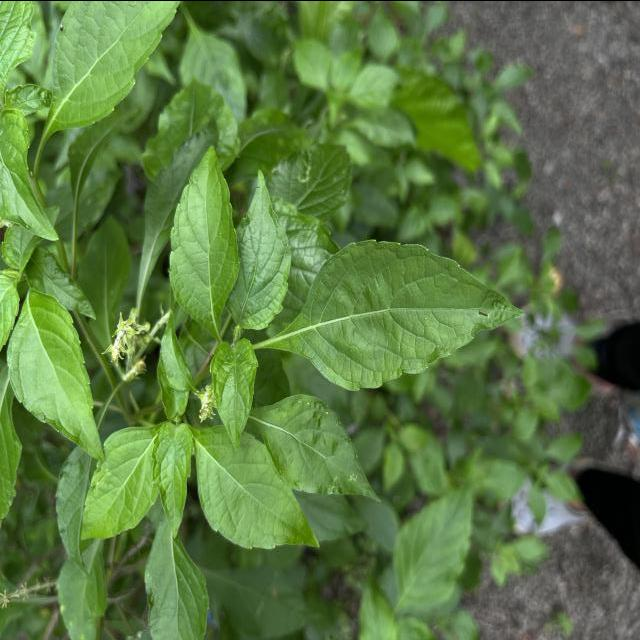Ocimum gratissimum: (265, 234, 529, 393), (39, 0, 182, 160), (5, 286, 107, 466), (190, 423, 322, 551), (254, 388, 384, 504), (166, 142, 242, 338), (226, 165, 296, 333), (79, 421, 164, 544), (146, 512, 212, 640), (208, 333, 260, 452), (149, 419, 197, 540)
